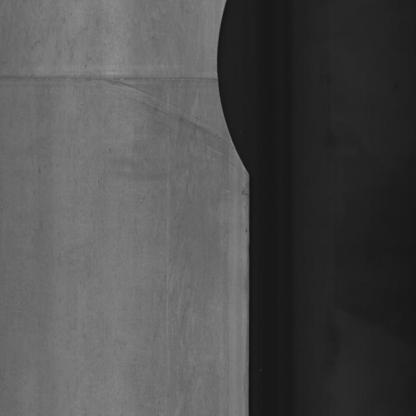crescent_gap: (210, 2, 262, 192)
welding_line: (2, 60, 228, 95)
